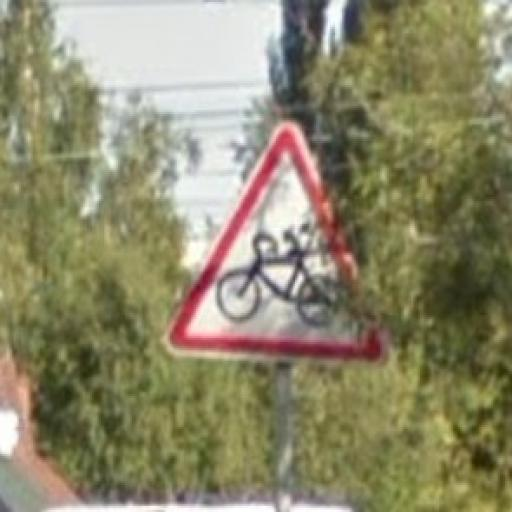traffic_sign: (161, 123, 393, 368)
